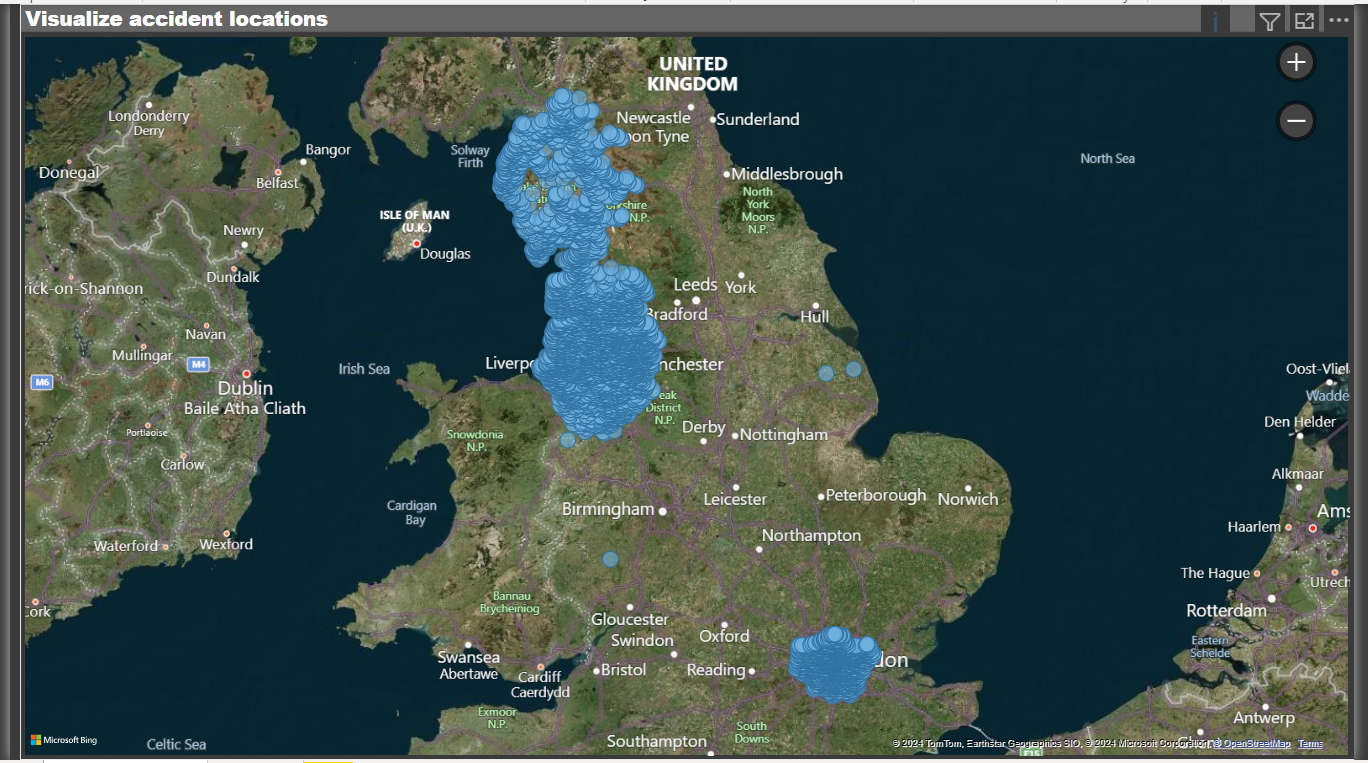

The dashboard page shown, as its layout file describes it:
{"tool":"powerbi","page":{"name":"Geographic Map","canvas":[1280,720],"ordinal":0},"visuals":[{"type":"map","title":"Visualize accident locations","fields":{"Y":["Accidents.Latitude"],"X":["Accidents.Longitude"]},"box":[9.6,0,1270.4,720.3],"z":0}]}

Visuals, with their boxes in screenshot pixels (x1, y1, x2, y2):
"Visualize accident locations" map: left=21, top=0, right=1347, bottom=752
